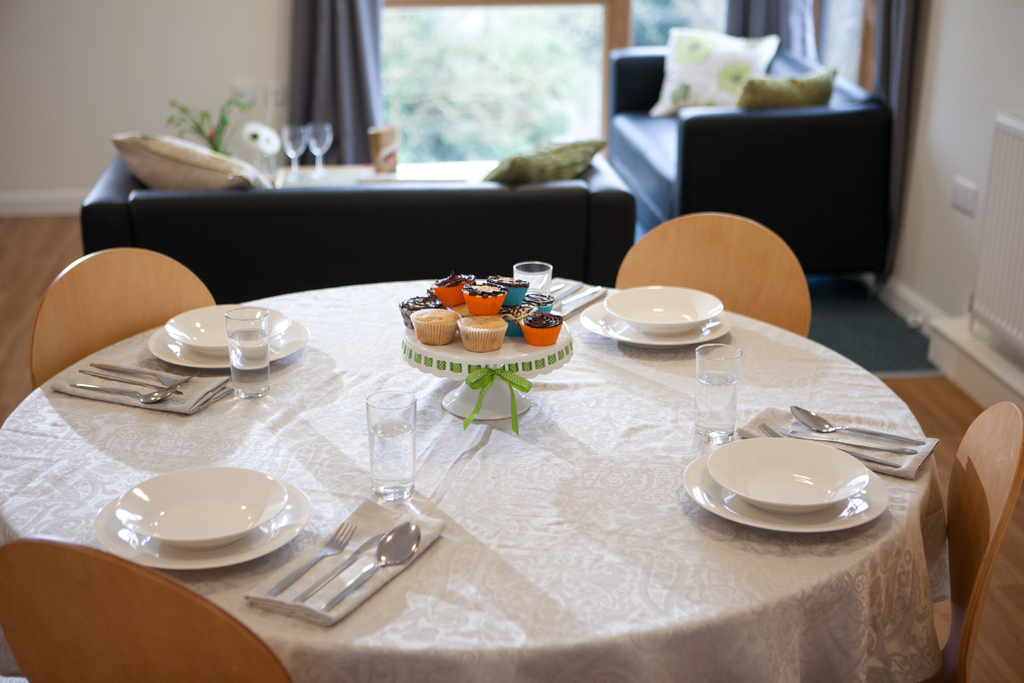plate: (113, 463, 289, 550), (703, 431, 870, 513), (604, 283, 725, 335)
